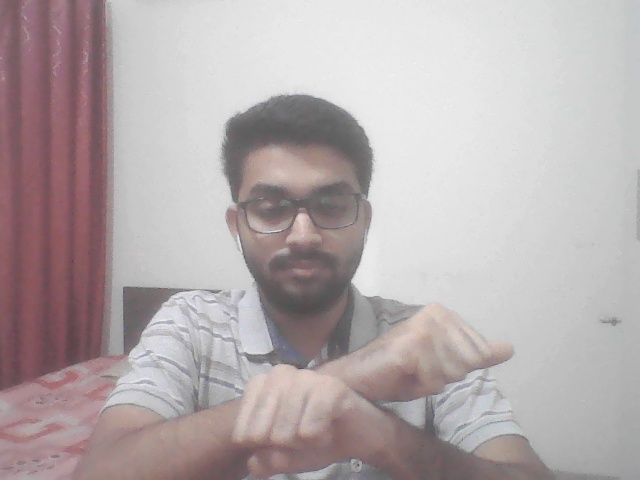work: (213, 296, 550, 478)
